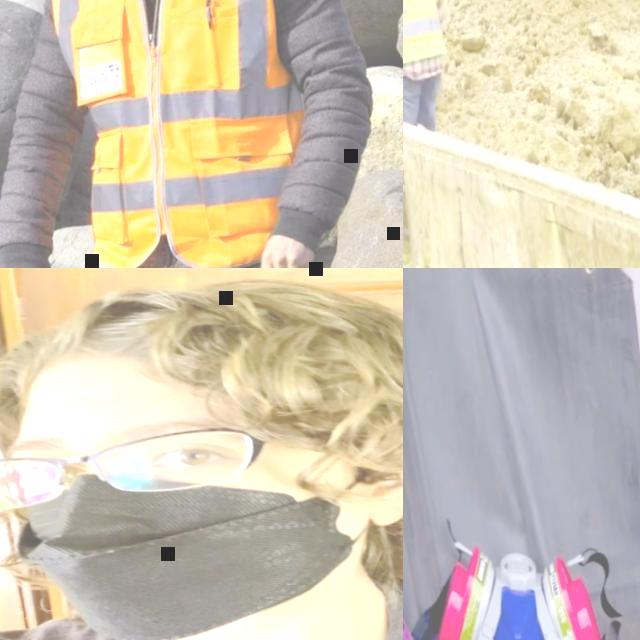mask: (8, 441, 403, 640), (426, 531, 607, 640)
no_helmet: (0, 268, 403, 427)
person: (0, 268, 403, 640), (0, 0, 399, 268)
vest: (50, 0, 351, 268)
